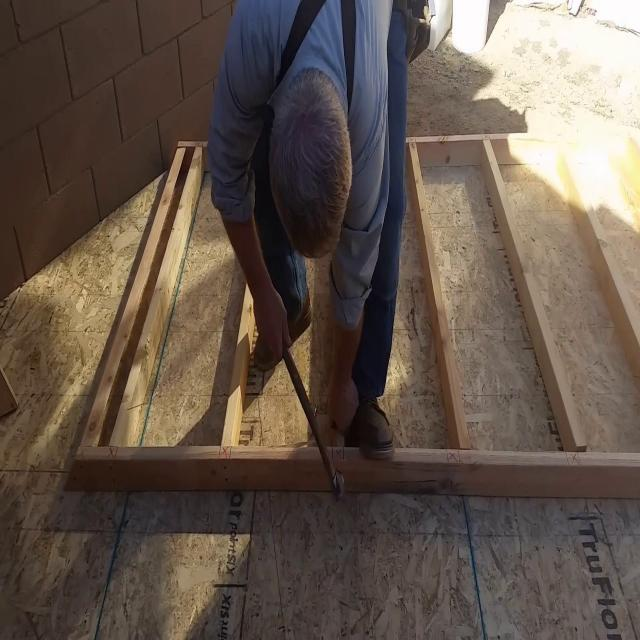hammer: (282, 345, 346, 502)
